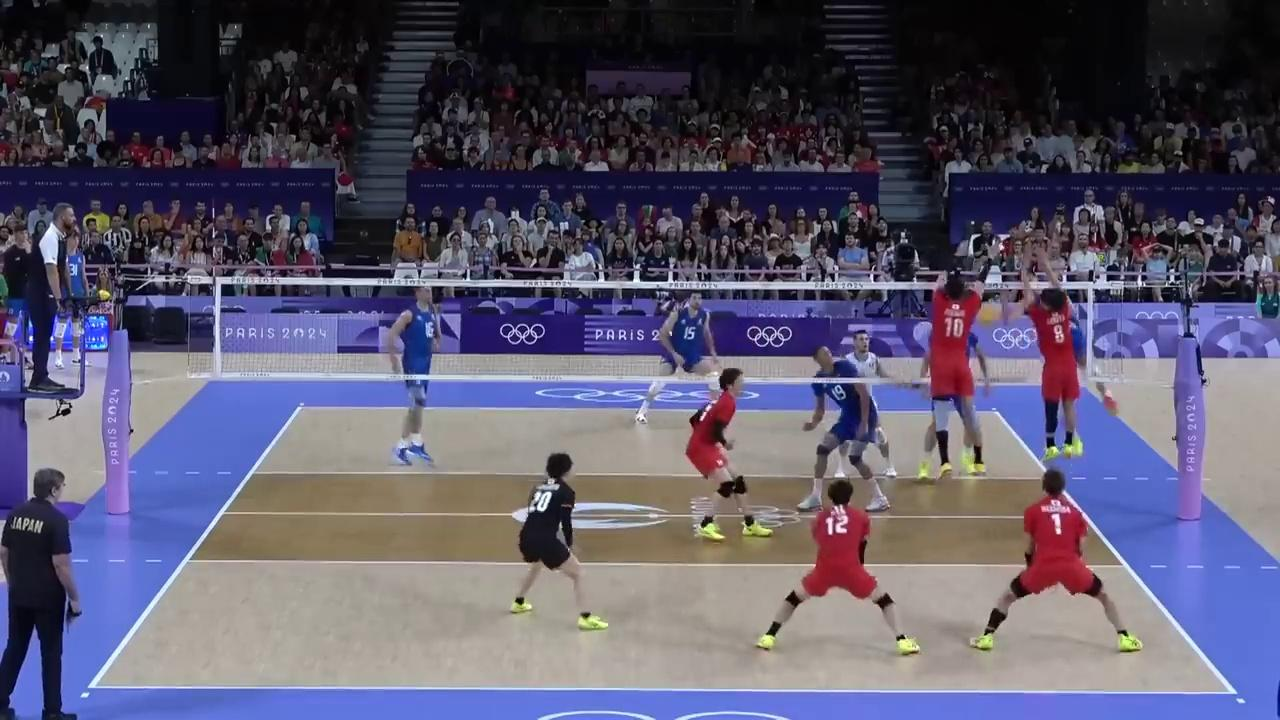ball: (978, 303, 1005, 323)
